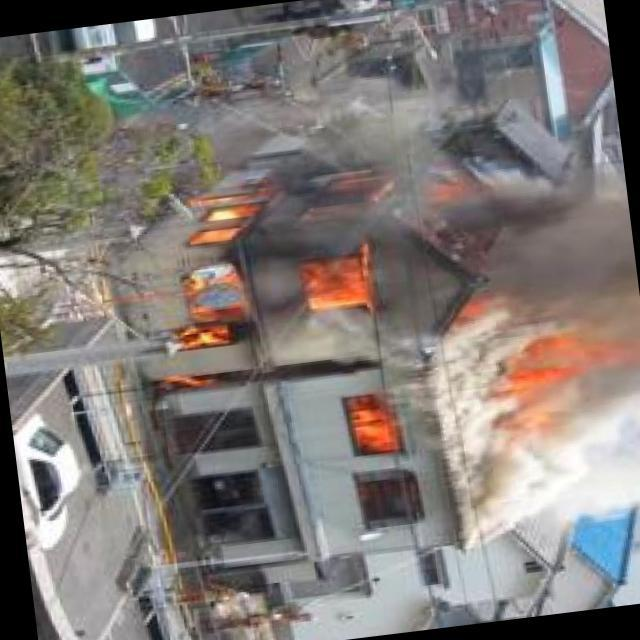Fire: (125, 170, 488, 405), (493, 319, 617, 443), (336, 390, 403, 469)
